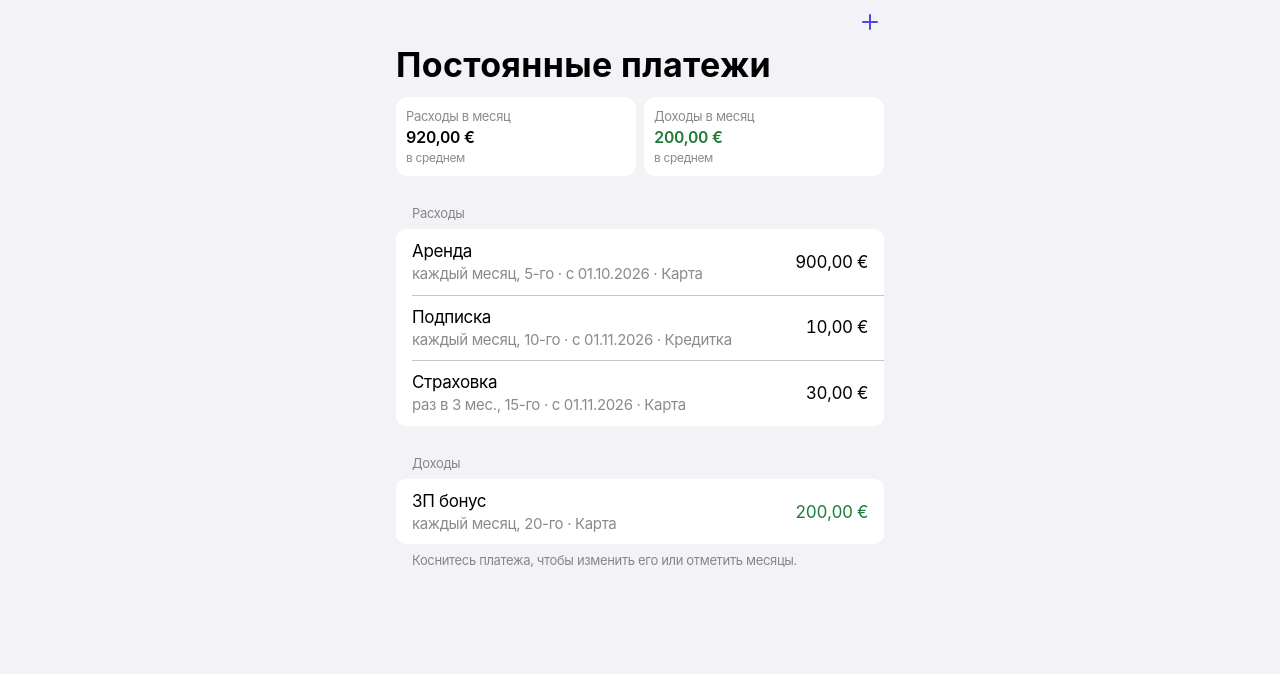
Test: RecurringForm — new payment › creates an expense with every field and the first debit account by default
Click the button named "Новый постоянный платёж".
click(870, 22)  # box [848,0,892,44]
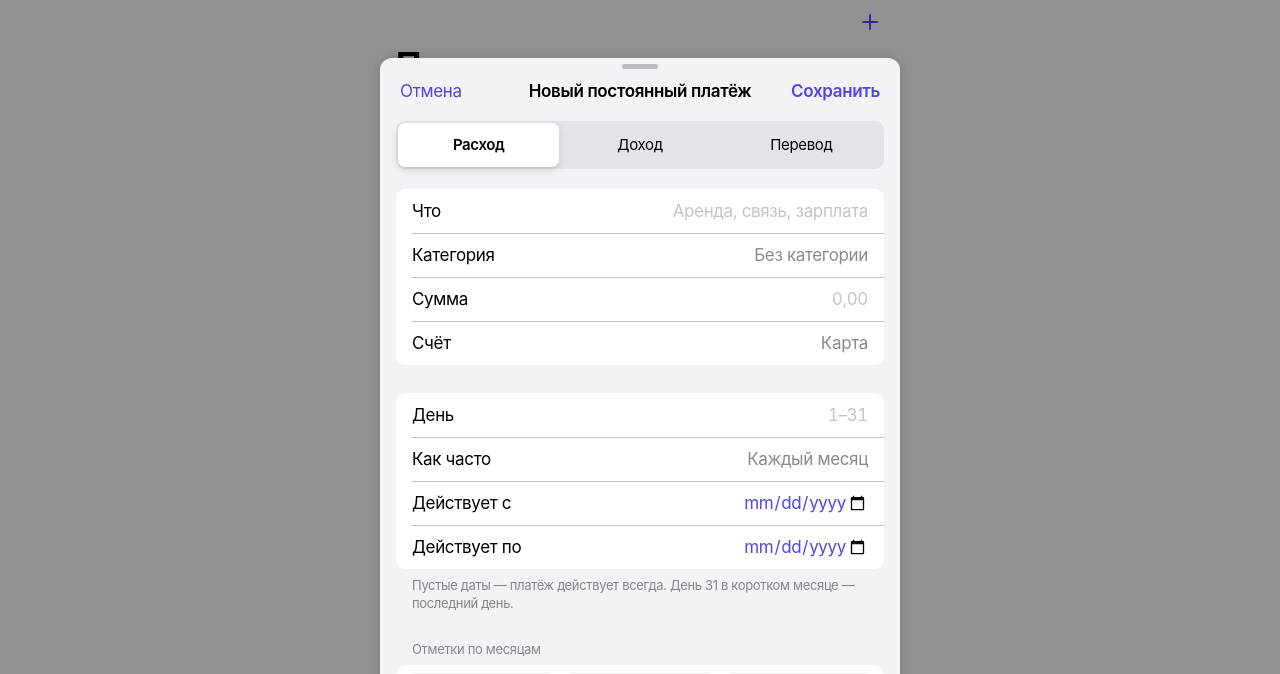
Expected: the dropdown labelled "Счёт" shows "Карта", [463,321,868,365]
Type "Интернет" into the field labelled "Что".
click(660, 211); type("Интернет")  # box [453,189,868,233]
Select "Подписки" in the dropdown labelled "Категория" at (687, 255), box [507,233,868,277]
Type "25,5" into the field labelled "Сумма".
click(674, 299); type("25,5")  # box [480,277,868,321]
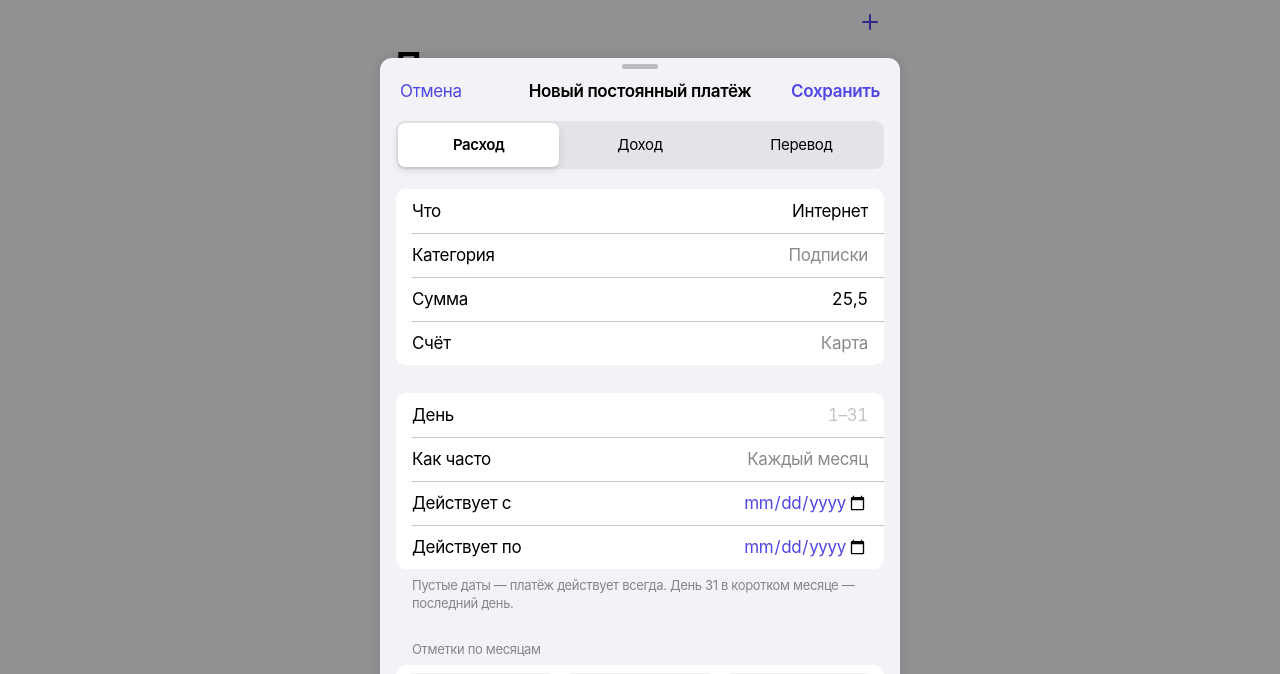
Type "12" into the field labelled "День".
click(667, 415); type("12")  # box [466,393,868,437]
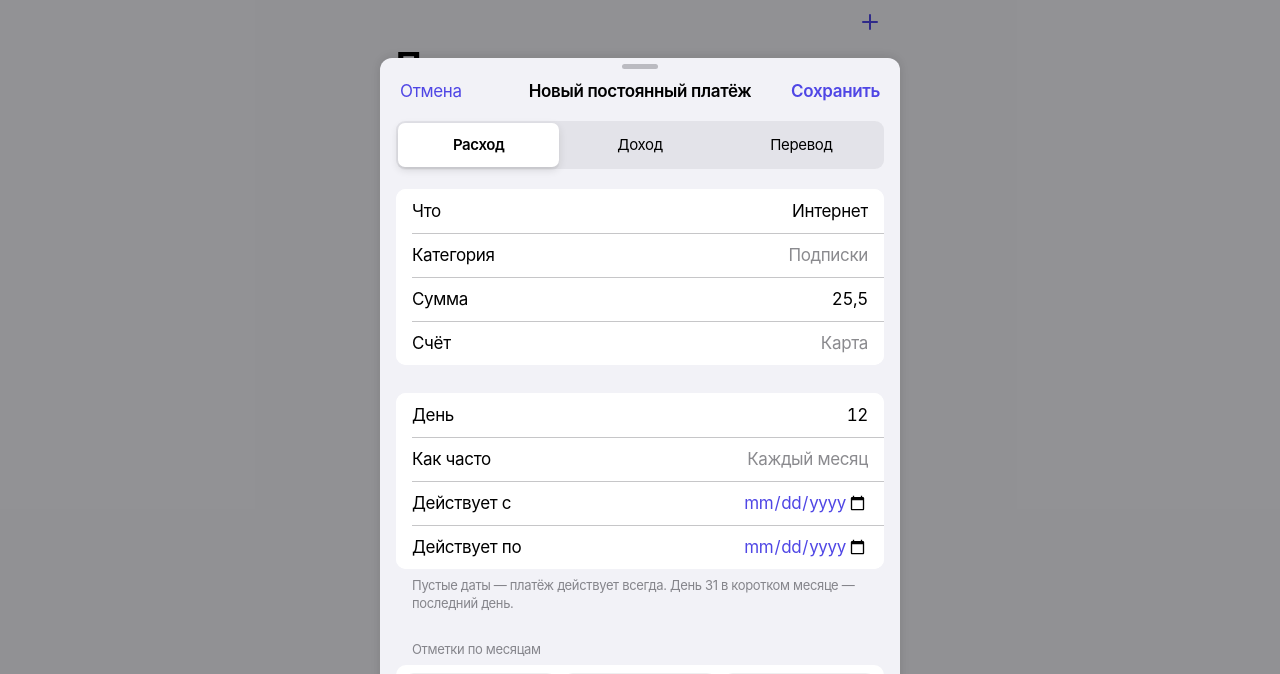
Select "Раз в 3 месяца" in the dropdown labelled "Как часто" at (685, 459), box [503,437,868,481]
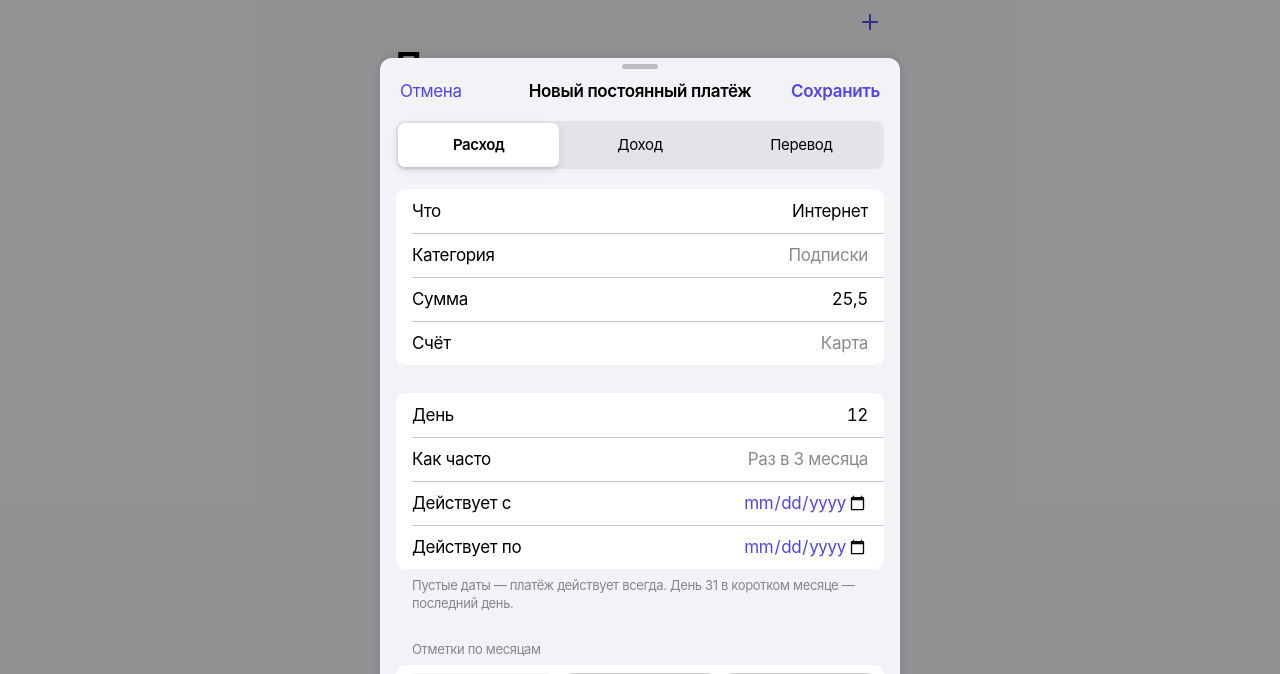
Type "2026-12-01" into the date field labelled "Действует с".
click(696, 503); type("2026-12-01")  # box [523,481,868,525]
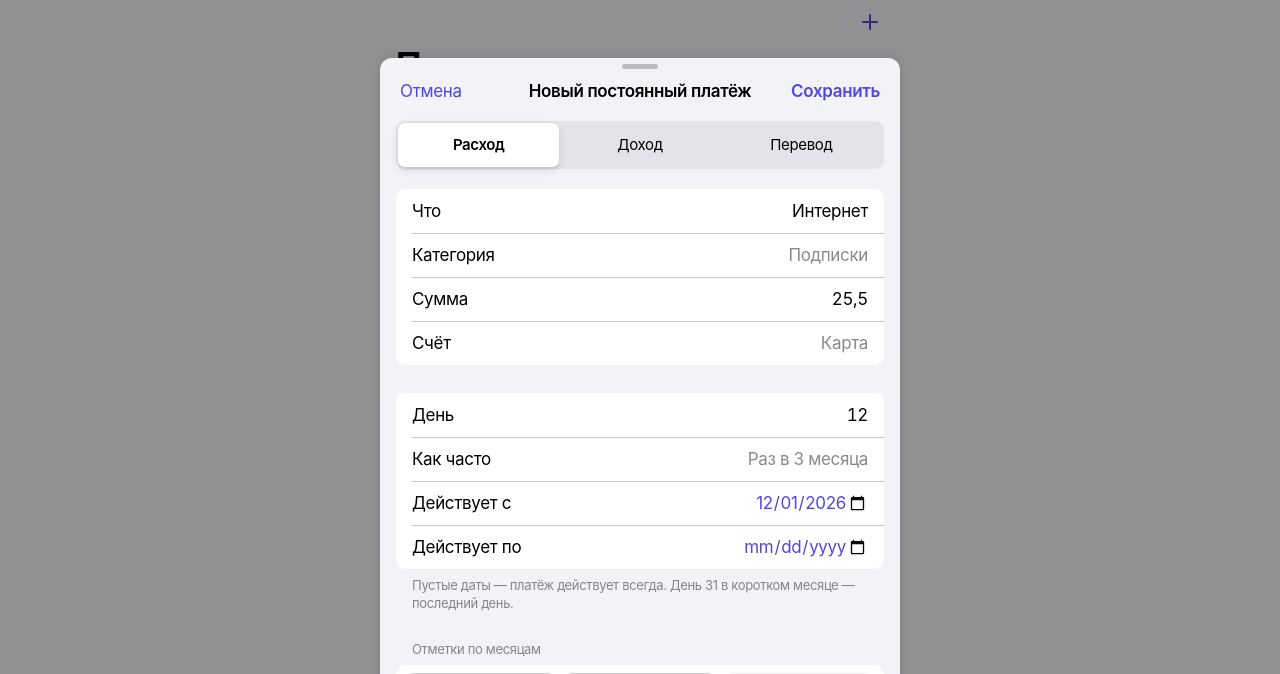
Click the button "Сохранить".
click(836, 91)  # box [779,69,892,113]
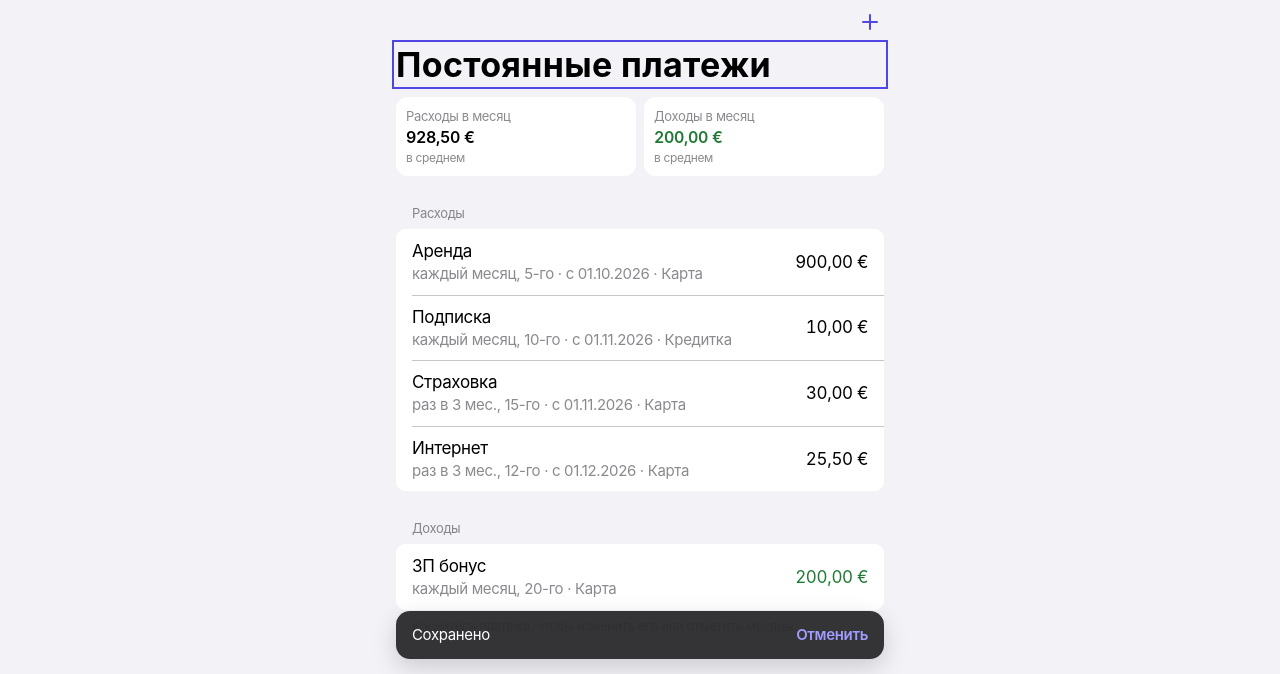
Expected: the text "Сохранено" is shown, [412,625,490,644]
